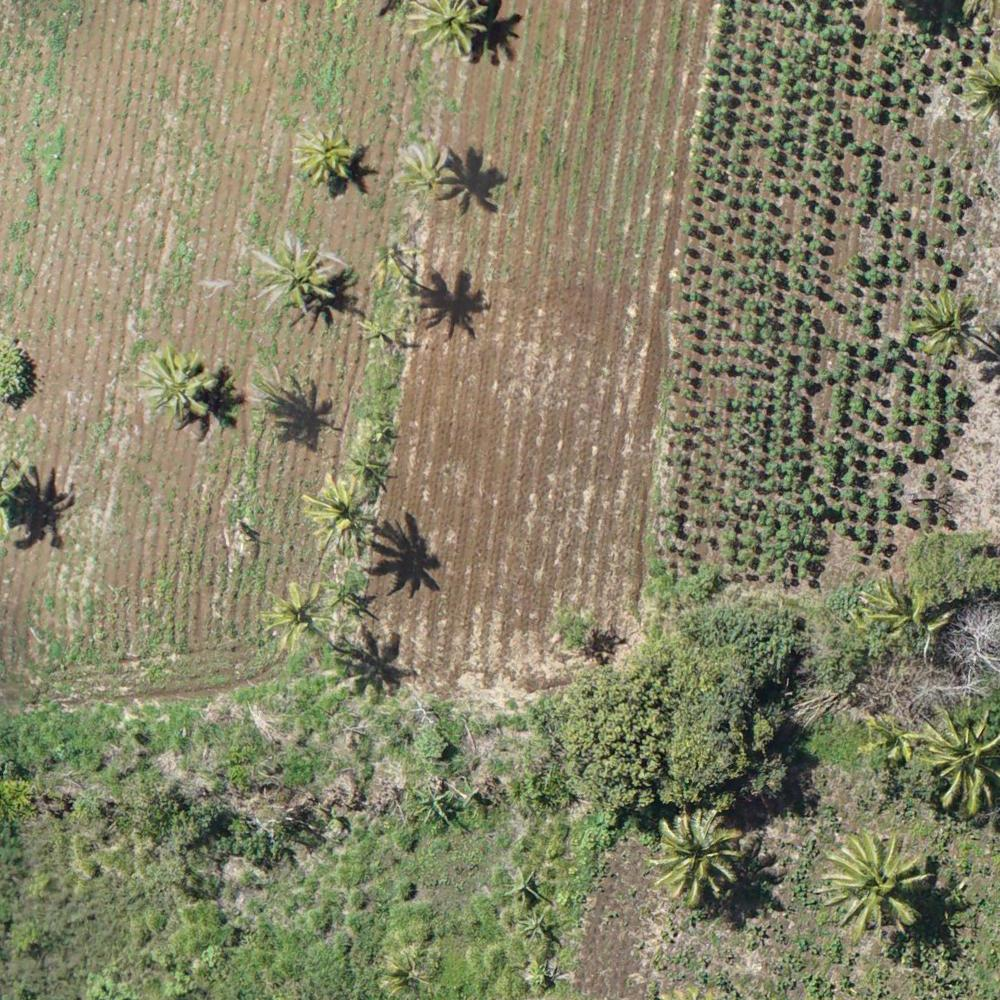Palm: (825, 831, 924, 933), (918, 718, 1000, 809), (656, 813, 739, 900), (301, 472, 384, 558), (249, 234, 329, 310), (139, 343, 214, 422), (911, 288, 983, 362), (264, 580, 333, 652), (413, 1, 490, 61), (291, 123, 357, 180), (396, 140, 454, 199), (863, 709, 921, 766), (366, 240, 416, 289)
